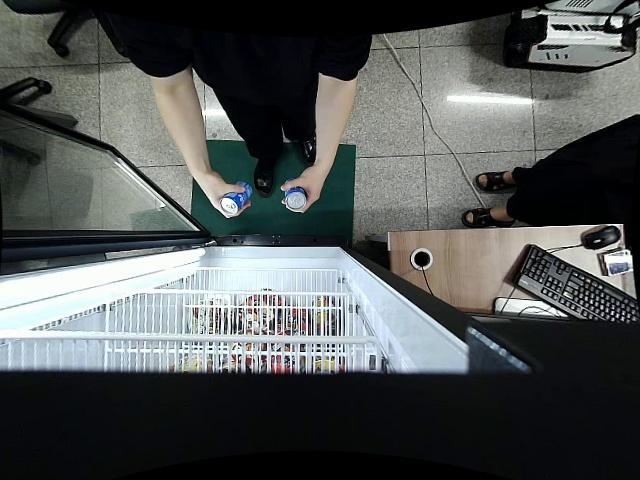00_hand: (201, 172, 251, 219), (281, 168, 325, 213)
15_letsbe: (221, 181, 252, 213), (284, 176, 307, 214)
